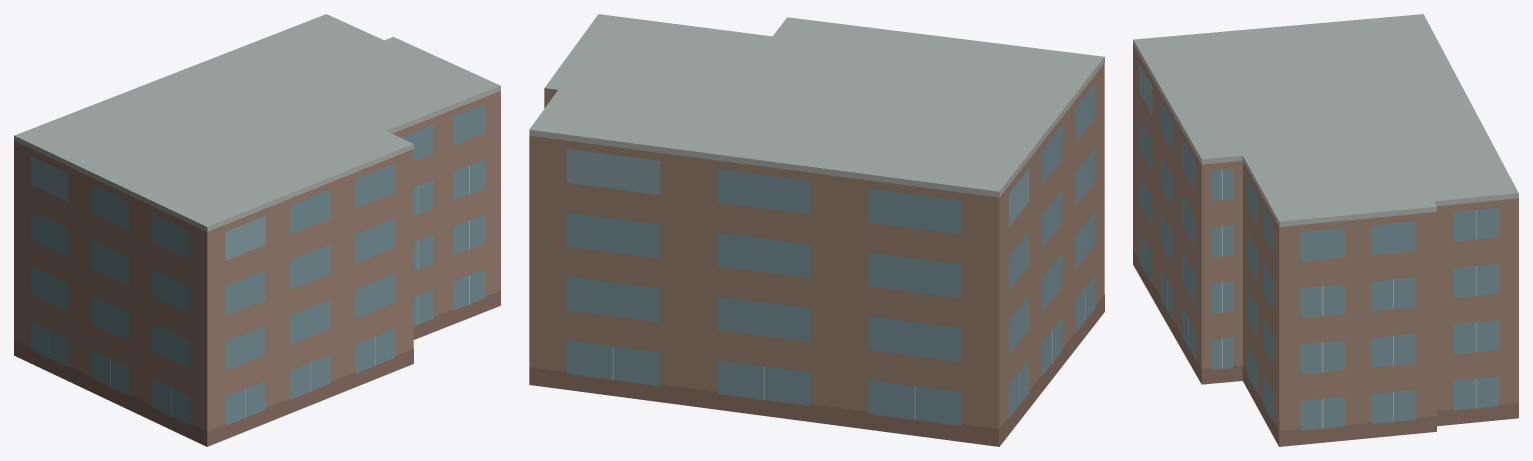
The model's file is survey-upis-32772866.glb.
The picture shows the model from 3 angles, left to right: view 1: azimuth 30°, elevation 25°; view 2: azimuth 150°, elevation 25°; view 3: azimuth 270°, elevation 25°; orthographic projection. The views are drawn at different scales.
Parts seen in each view (by area): view 1: survey-upis-32772866.tmp; view 2: survey-upis-32772866.tmp; view 3: survey-upis-32772866.tmp.
Boxes of the visible parts, bbox=[...] form: survey-upis-32772866.tmp: bbox=[14, 14, 500, 446]; survey-upis-32772866.tmp: bbox=[529, 14, 1104, 446]; survey-upis-32772866.tmp: bbox=[1133, 14, 1518, 446].
Size of the model in its own units: 21 by 10.6 by 16.47.
